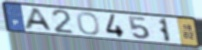1: (157, 17, 173, 44)
2: (50, 8, 75, 35)
4: (106, 14, 126, 39)
5: (127, 15, 151, 40)
A: (22, 8, 55, 33)
O: (76, 11, 102, 36)
